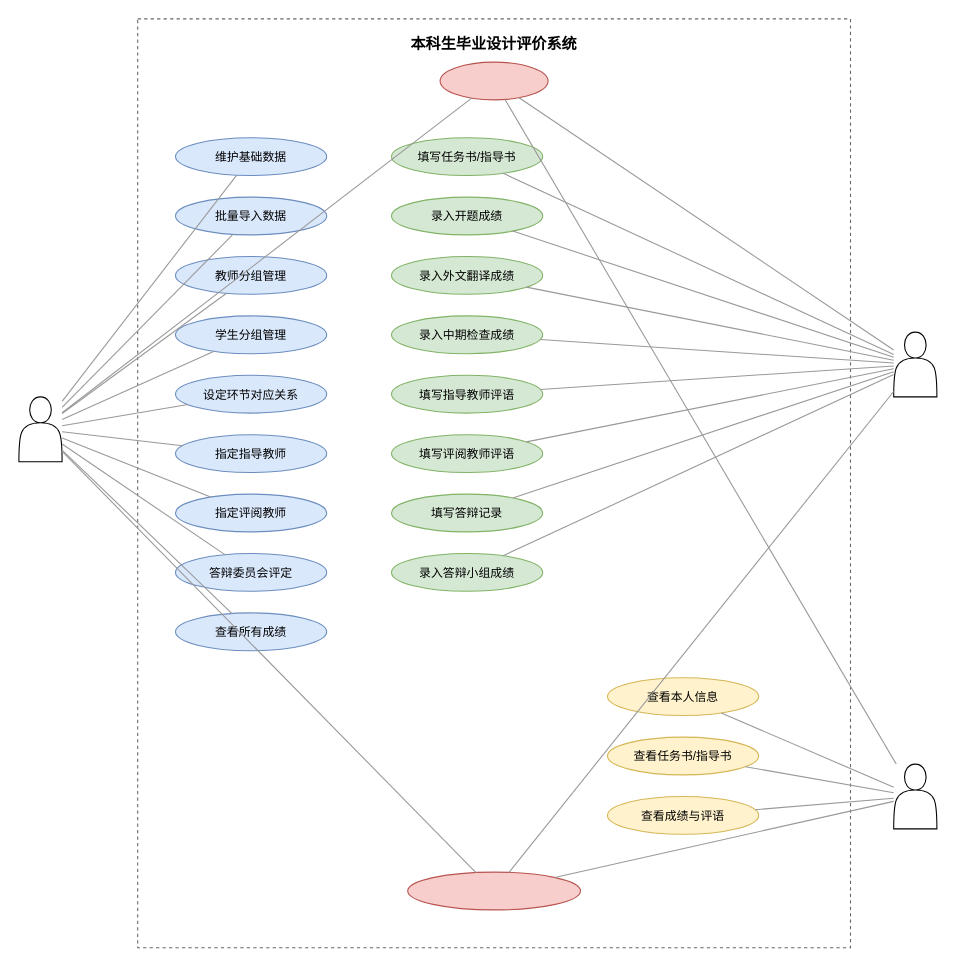
Image size: 956x967. Some labels were removed from this diagram. Here are the shapes that lost their labels. From the top down, the centre of each, then its label:
the point at 493,80: 登录
the point at 915,364: 教师
the point at 40,429: 超级管理员
the point at 915,796: 学生
the point at 493,890: 导出评价手册Word
